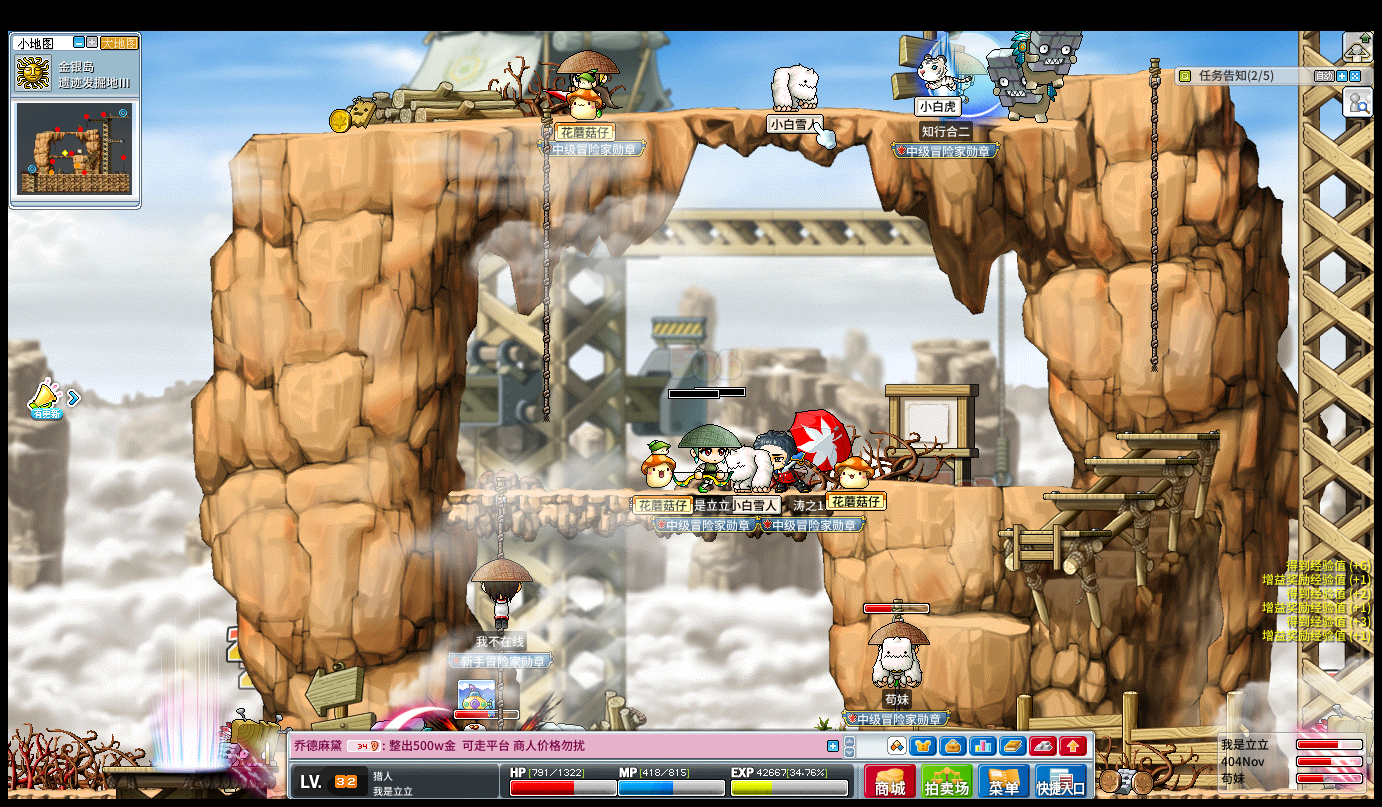floor: (240, 105, 1090, 140), (445, 488, 822, 499), (924, 612, 1028, 634), (902, 482, 1077, 493), (1067, 66, 1166, 80), (1115, 429, 1221, 441), (1065, 69, 1166, 81), (1077, 456, 1196, 465), (996, 528, 1110, 536), (1044, 492, 1157, 500)
monster: (216, 712, 282, 791), (986, 46, 1029, 120)
rope: (1147, 55, 1161, 375), (538, 110, 551, 432), (491, 479, 505, 558)
